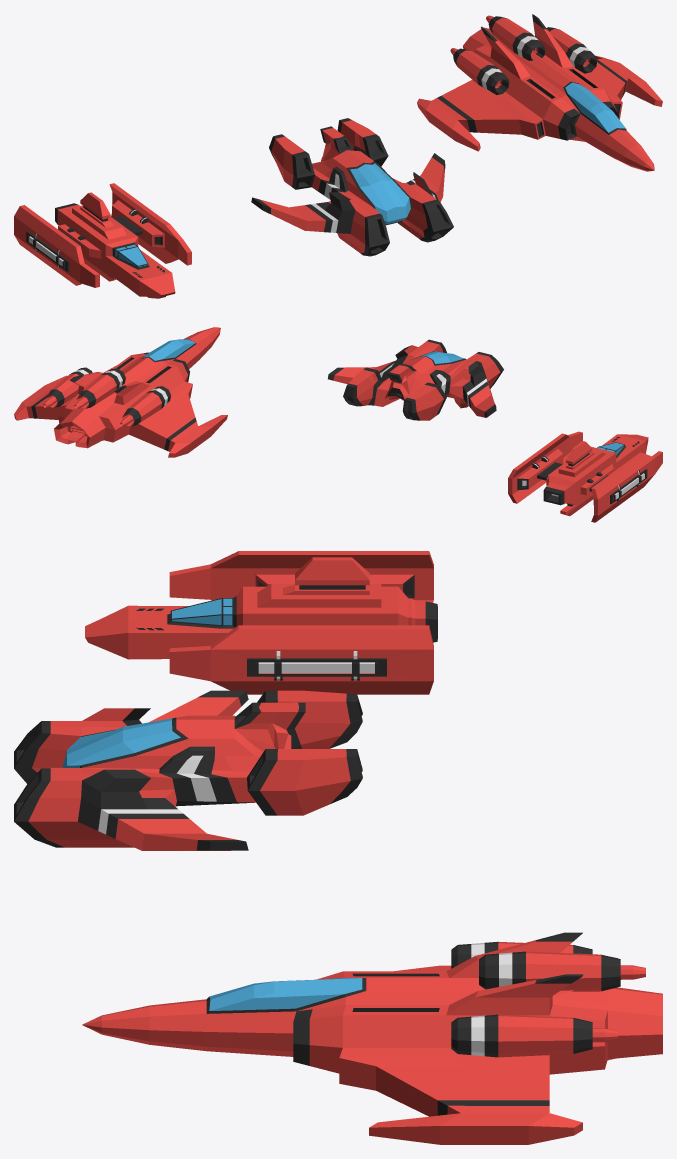
File: 3_enemy_red_starships.glb
3 views of the same model, one above another, from view 1: azimuth 30°, elevation 25°; view 2: azimuth 150°, elevation 25°; view 3: azimuth 270°, elevation 25° (orthographic). The views are drawn at different scales.
Parts seen in each view (by area): view 1: Starship.v2, Starship.v3, Starship.002; view 2: Starship.v2, Starship.002, Starship.v3; view 3: Starship.v2, Starship.v3, Starship.002.
Part boxes in pixels (x1,y1,x2,y2): Starship.v2: (417,14,662,171); Starship.v3: (251,118,453,256); Starship.002: (14,183,191,298); Starship.v2: (14,327,227,457); Starship.002: (508,431,662,522); Starship.v3: (328,339,503,420); Starship.v2: (82,932,662,1144); Starship.v3: (14,690,362,850); Starship.002: (85,551,437,694).
Size of the model in its own units: 4.84 by 0.6779 by 2.52.
